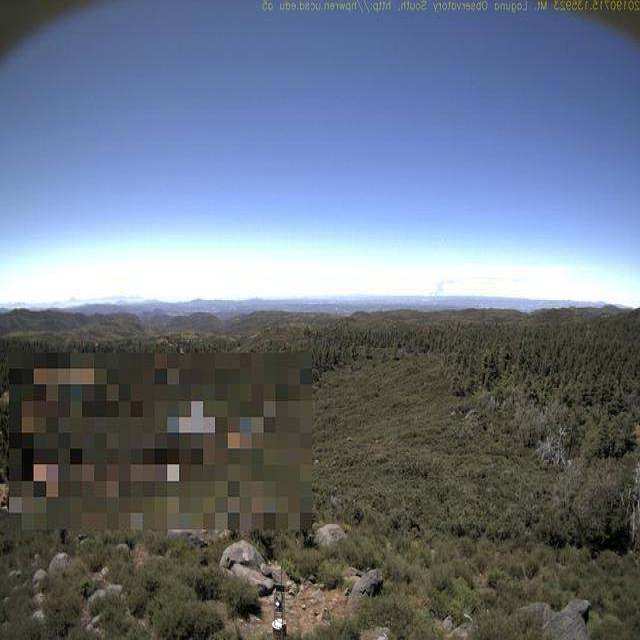smoke: (428, 272, 457, 299)
